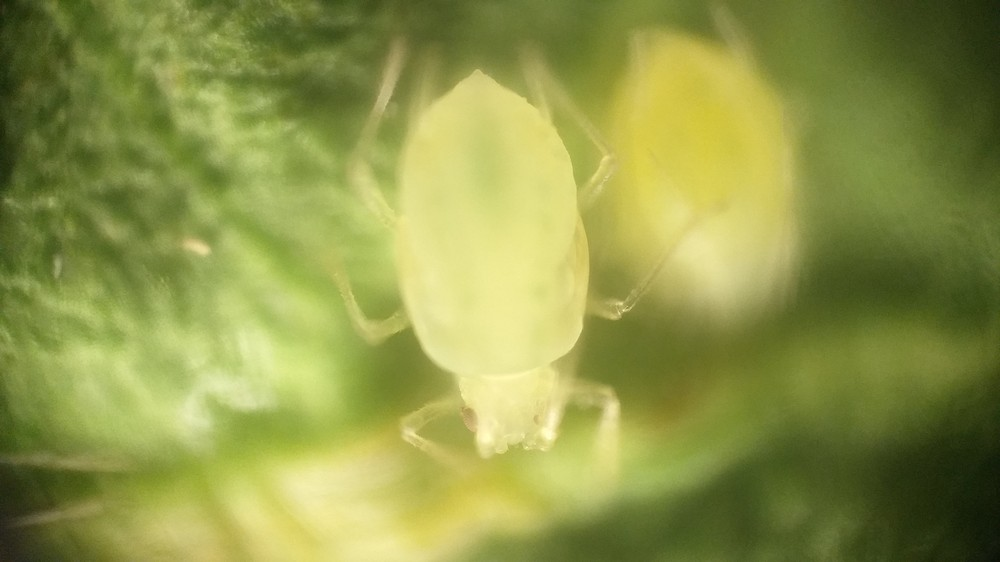Pulgon: (337, 37, 694, 507)
